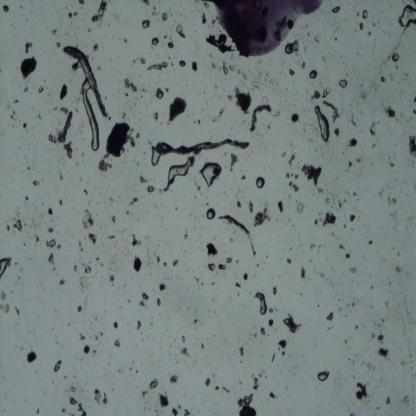Air bubble: (165, 158, 196, 190), (314, 104, 330, 143), (199, 161, 222, 188), (398, 3, 416, 29), (255, 292, 268, 315), (0, 256, 10, 278), (150, 149, 161, 166), (205, 206, 216, 222), (317, 370, 330, 382), (256, 175, 266, 189), (284, 42, 294, 56), (141, 19, 150, 30), (391, 52, 400, 62), (309, 70, 318, 79), (332, 5, 340, 14), (157, 90, 164, 100), (362, 9, 368, 20), (152, 38, 160, 46), (3, 5, 10, 13)
Background material: (47, 107, 73, 145), (168, 94, 189, 124), (235, 85, 255, 114), (300, 162, 323, 187), (90, 0, 107, 29), (236, 392, 256, 416), (282, 312, 302, 336), (322, 100, 341, 123), (20, 56, 38, 79), (80, 206, 96, 230), (252, 208, 270, 229), (69, 396, 87, 416), (93, 388, 109, 408), (354, 381, 369, 401), (25, 345, 39, 365), (124, 75, 138, 95), (156, 392, 171, 410), (132, 256, 146, 274), (322, 210, 336, 228), (0, 290, 10, 314), (407, 132, 416, 158), (12, 214, 25, 232), (58, 82, 69, 103), (63, 141, 74, 162), (147, 62, 170, 72), (130, 231, 143, 248), (228, 152, 239, 172), (378, 345, 392, 360), (98, 158, 112, 173), (277, 338, 288, 357), (138, 291, 150, 308), (383, 105, 397, 119), (44, 235, 58, 249), (146, 376, 160, 390), (205, 243, 218, 258), (292, 39, 301, 59), (212, 107, 224, 122), (175, 22, 186, 38), (345, 136, 358, 149), (52, 358, 64, 372), (324, 310, 336, 323), (337, 76, 348, 90), (169, 372, 180, 386), (288, 181, 300, 193), (369, 120, 378, 136), (87, 231, 98, 244), (295, 201, 305, 215), (23, 41, 33, 55), (82, 343, 92, 357), (199, 10, 208, 25), (387, 194, 399, 205), (290, 111, 300, 124), (322, 85, 331, 99), (154, 296, 163, 310), (348, 211, 358, 223), (151, 110, 161, 122), (253, 374, 260, 390), (46, 204, 54, 218), (47, 250, 55, 264), (285, 172, 299, 180), (12, 304, 20, 318), (134, 318, 142, 332), (310, 90, 321, 100), (180, 347, 190, 358), (127, 197, 139, 206), (31, 176, 40, 188), (300, 265, 307, 280), (191, 60, 198, 75), (161, 10, 168, 25), (378, 74, 388, 84), (206, 262, 216, 272), (147, 185, 156, 196), (394, 264, 405, 273), (268, 390, 277, 401), (79, 330, 87, 342), (203, 376, 211, 388), (278, 198, 284, 214), (158, 282, 166, 294), (266, 317, 274, 329), (58, 276, 66, 288), (138, 175, 148, 184), (218, 263, 227, 273), (248, 198, 253, 216), (138, 57, 148, 66), (107, 274, 116, 284), (220, 384, 230, 393), (10, 109, 18, 120), (67, 10, 78, 18), (178, 58, 186, 69), (289, 154, 296, 166), (221, 63, 228, 75), (75, 305, 84, 314), (376, 332, 384, 342), (259, 326, 267, 336), (357, 20, 364, 31), (21, 121, 28, 132), (84, 264, 91, 275), (92, 42, 99, 53), (166, 41, 174, 50), (272, 286, 278, 298), (334, 126, 340, 138), (154, 255, 162, 264), (285, 257, 293, 266), (71, 264, 80, 272), (107, 234, 116, 242), (38, 85, 46, 94), (112, 320, 120, 329), (110, 214, 117, 224), (114, 338, 121, 348), (239, 346, 245, 357), (338, 242, 346, 250), (349, 266, 357, 274), (287, 68, 295, 76), (46, 226, 54, 234), (183, 408, 191, 416), (171, 408, 179, 416), (172, 258, 180, 266), (385, 396, 392, 405), (193, 316, 199, 326), (23, 83, 29, 93), (301, 59, 306, 71), (59, 195, 64, 207), (235, 200, 242, 208), (271, 352, 276, 363), (25, 192, 30, 203), (242, 272, 248, 281), (234, 281, 241, 288), (280, 150, 286, 158), (345, 252, 351, 260), (240, 173, 246, 181), (180, 335, 186, 343), (268, 306, 274, 314), (55, 40, 61, 48), (348, 159, 353, 168), (226, 258, 233, 264), (213, 385, 220, 391), (313, 218, 319, 225), (52, 29, 58, 36), (78, 0, 85, 6), (136, 131, 141, 139), (368, 239, 374, 245)
Cellulose filter fibre: (66, 47, 106, 119), (154, 137, 250, 155), (219, 214, 256, 258), (381, 26, 407, 66), (250, 104, 271, 132)
Fragment: (106, 122, 130, 157)
Pen: (211, 0, 327, 58)
